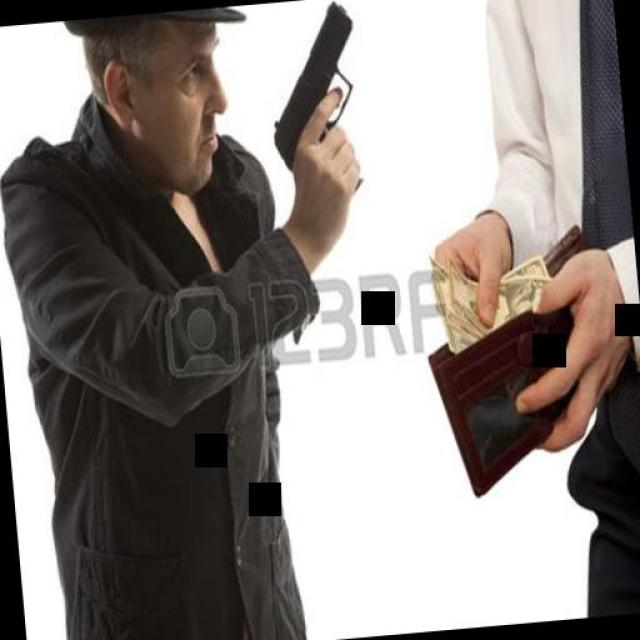gun: (258, 0, 368, 204)
